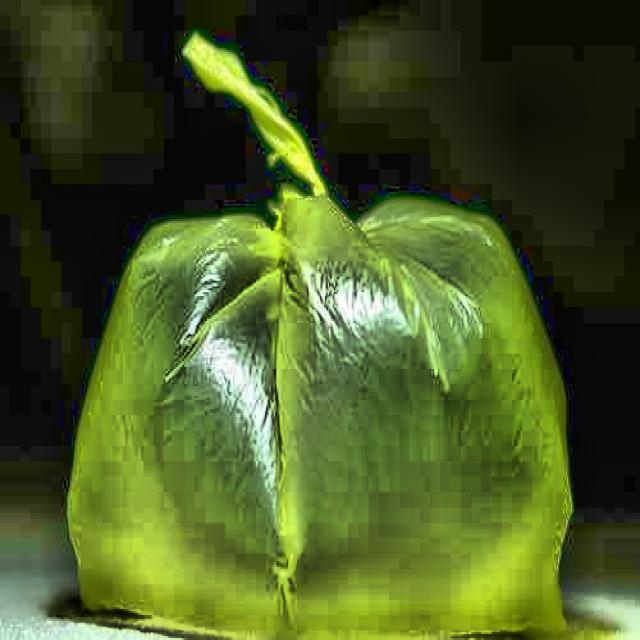Plastic: (62, 32, 590, 640)
